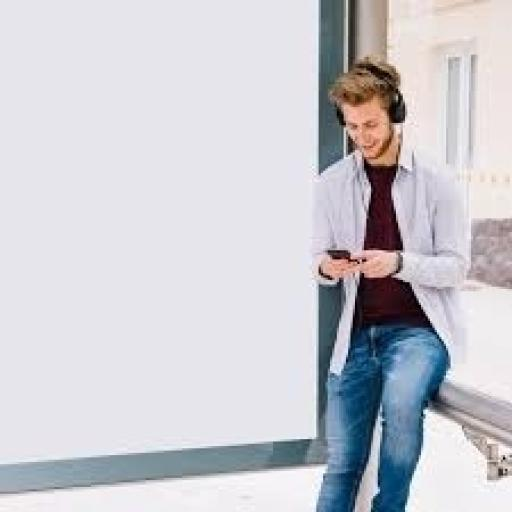listening_to_music: (305, 54, 476, 510)
